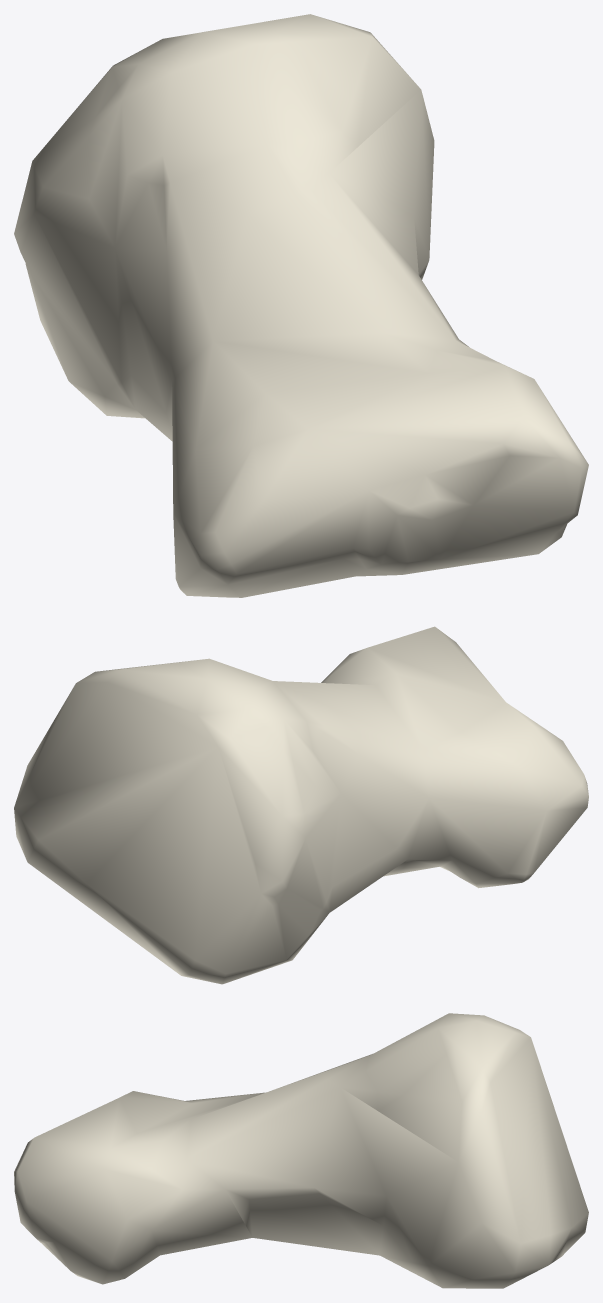
The picture shows the model from 3 angles, top to bottom: view 1: azimuth 30°, elevation 25°; view 2: azimuth 150°, elevation 25°; view 3: azimuth 270°, elevation 25°; orthographic projection. The views are drawn at different scales.
Parts seen in each view (by area): view 1: ZA_903162e237b8c459; view 2: ZA_903162e237b8c459; view 3: ZA_903162e237b8c459.
Boxes of the visible parts, x1,y1,x2,y2 form: ZA_903162e237b8c459: (14, 14, 588, 597); ZA_903162e237b8c459: (14, 626, 588, 984); ZA_903162e237b8c459: (14, 1013, 588, 1288).
Bounding box in the file's own units: 0.0123 × 0.00908 × 0.0176.
